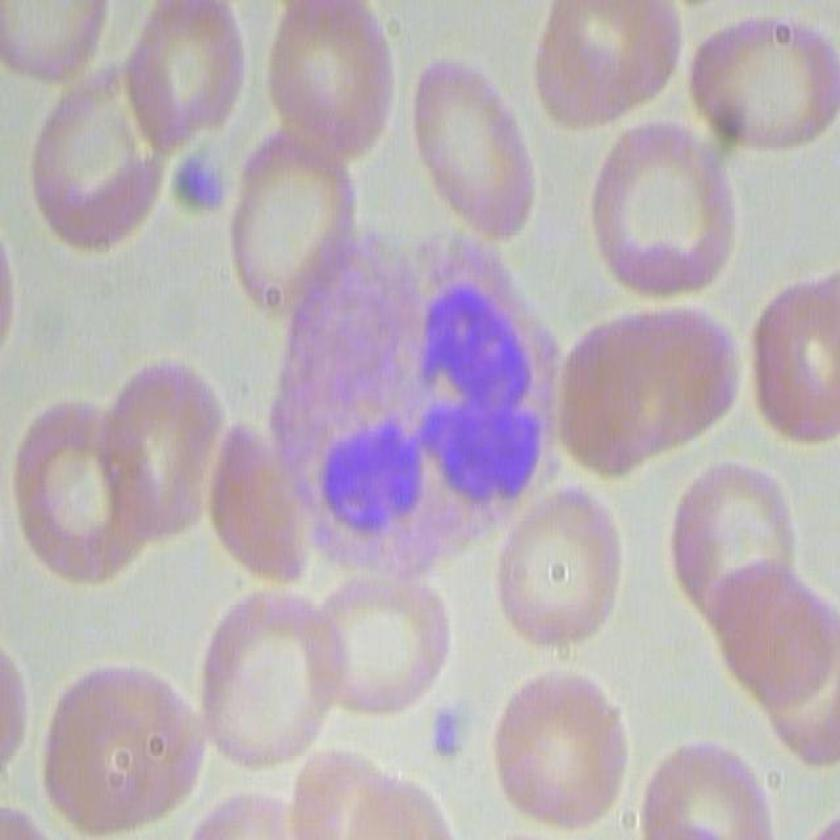neutrophil: (277, 232, 571, 593)
